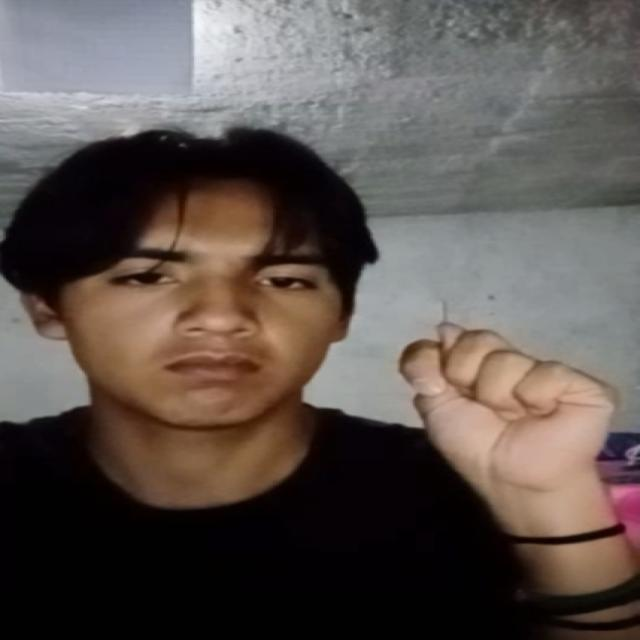T: (390, 308, 620, 498)
